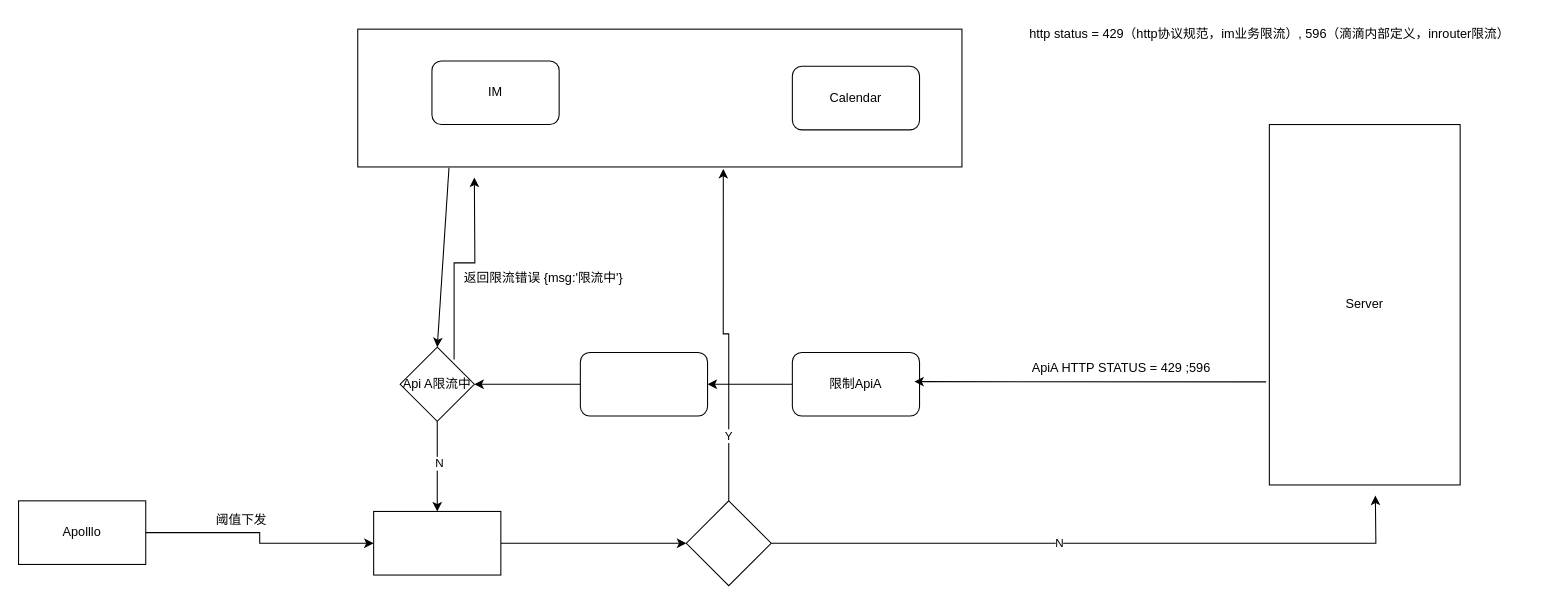
Image size: 1542x604. Some labels were removed from this diagram. Here are the shapes that lost their labels. From the top down, the centre of each, then its label:
At point 643,383: "指数退避 ApiA".
At point 437,542: "每分钟计数".
At point 728,543: "达到阈值？".
